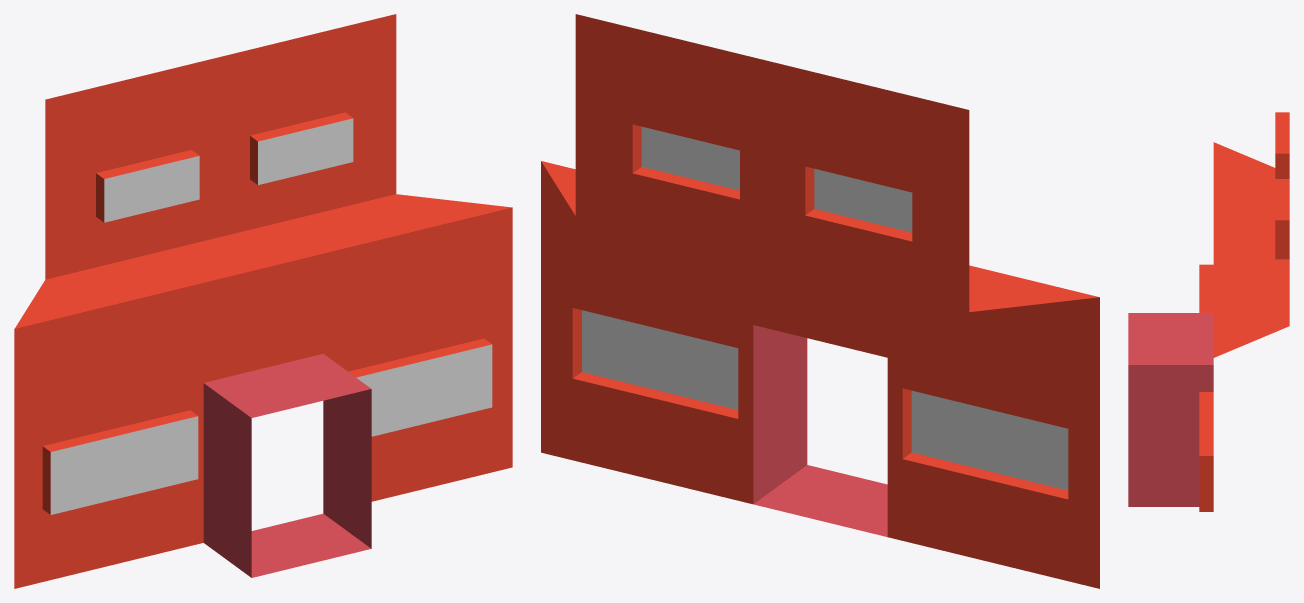
File: doorWallChinese.fbx
3 views of the same model, side by side, from view 1: azimuth 30°, elevation 25°; view 2: azimuth 150°, elevation 25°; view 3: azimuth 270°, elevation 25° (orthographic). The views are drawn at different scales.
Parts seen in each view (by area): view 1: DoorWallChinese; view 2: DoorWallChinese; view 3: DoorWallChinese.
Boxes of the visible parts, left/top/right/bottom form: DoorWallChinese: left=14, top=14, right=512, bottom=588; DoorWallChinese: left=541, top=14, right=1099, bottom=588; DoorWallChinese: left=1128, top=112, right=1289, bottom=511.
Bounding box in the file's own units: 200 × 169 × 63.19.
